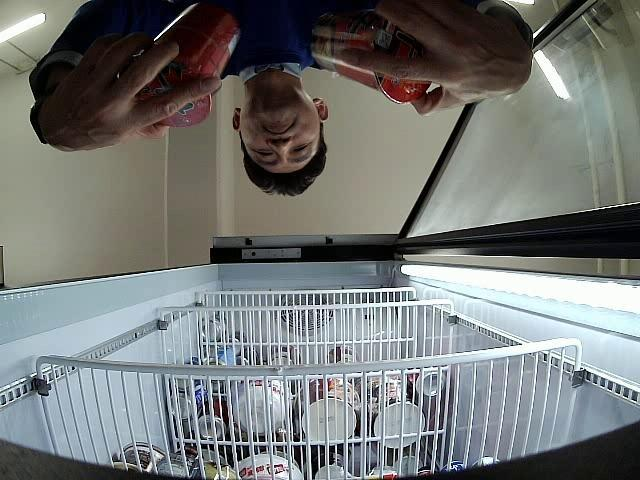02_shinRamen_S: (116, 4, 238, 130), (311, 4, 433, 104)
